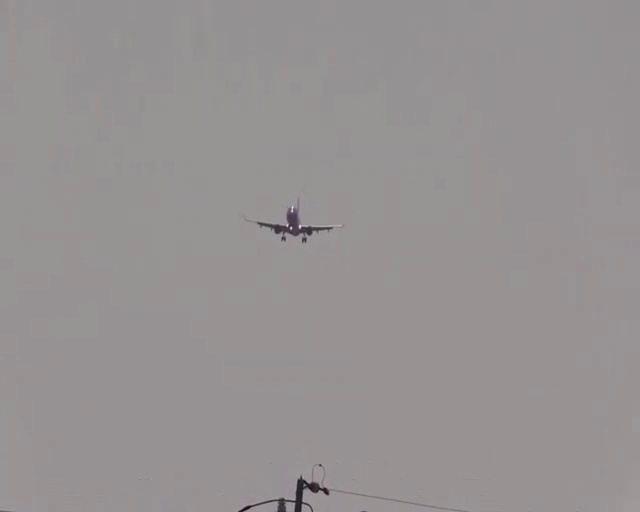AIRPLANE: (243, 197, 344, 243)
